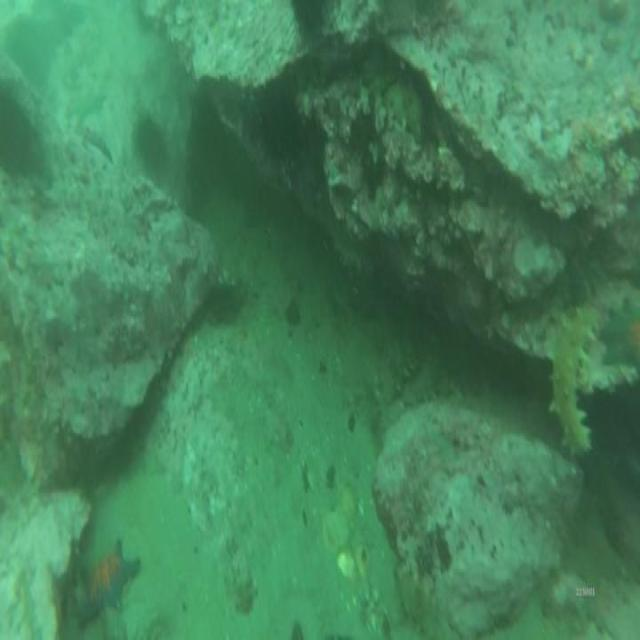echinus: (0, 76, 43, 186), (129, 107, 172, 182), (205, 275, 248, 325), (289, 0, 333, 46)
holothurian: (354, 40, 436, 154), (546, 304, 598, 464), (394, 340, 448, 411), (72, 120, 114, 168)
starfish: (72, 529, 144, 634), (594, 290, 640, 374)
